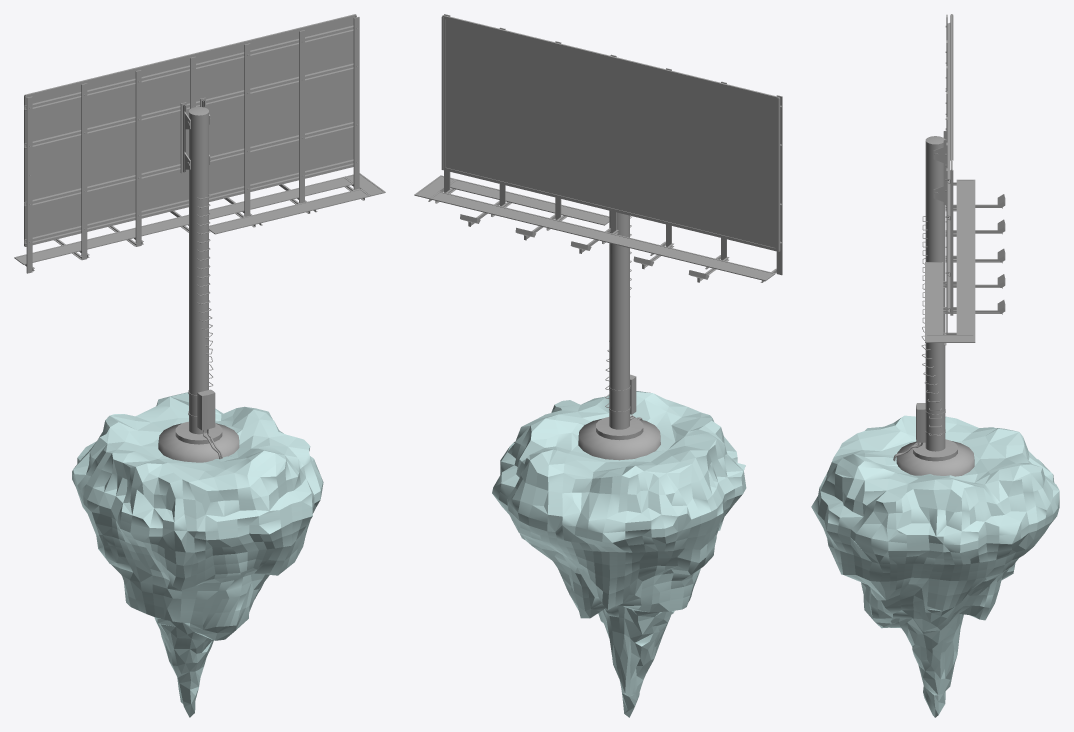
File: IslandSmall.fbx
The picture shows the model from 3 angles, left to right: view 1: azimuth 30°, elevation 25°; view 2: azimuth 150°, elevation 25°; view 3: azimuth 270°, elevation 25°; orthographic projection. The views are drawn at different scales.
Parts seen in each view (by area): view 1: Score_Billboard, SmallIsland; view 2: Score_Billboard, SmallIsland; view 3: SmallIsland, Score_Billboard.
Boxes of the visible parts, x1,y1,x2,y2 form: Score_Billboard: [14, 14, 385, 462]; SmallIsland: [72, 392, 323, 717]; Score_Billboard: [414, 14, 782, 460]; SmallIsland: [492, 391, 746, 717]; SmallIsland: [811, 415, 1059, 717]; Score_Billboard: [893, 14, 1005, 476].
Size of the model in its own units: 872 by 1565 by 559.
